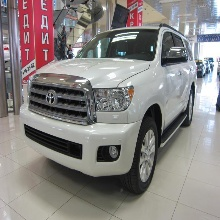no damage: (20, 23, 196, 194)
